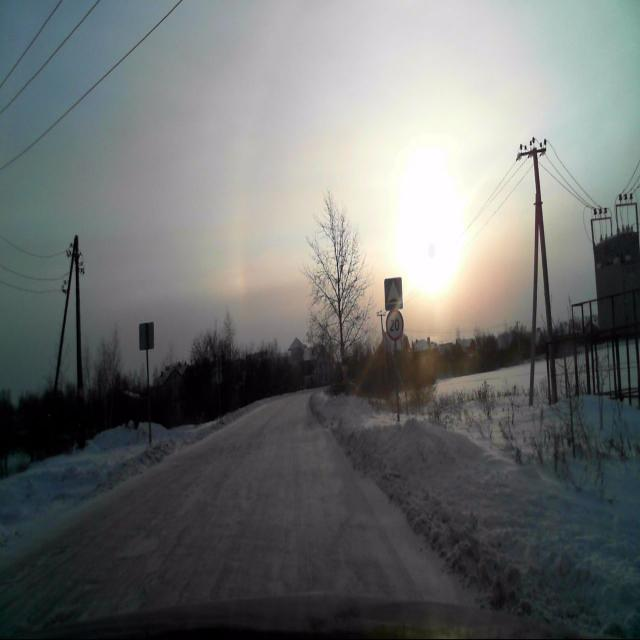object: (394, 345, 400, 424)
road sign: (384, 277, 403, 311)
